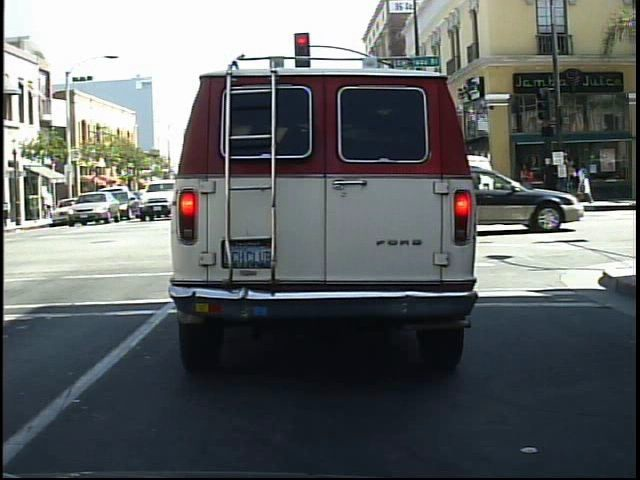person: (555, 145, 580, 210), (537, 154, 563, 211), (515, 157, 538, 210), (577, 158, 597, 205)
